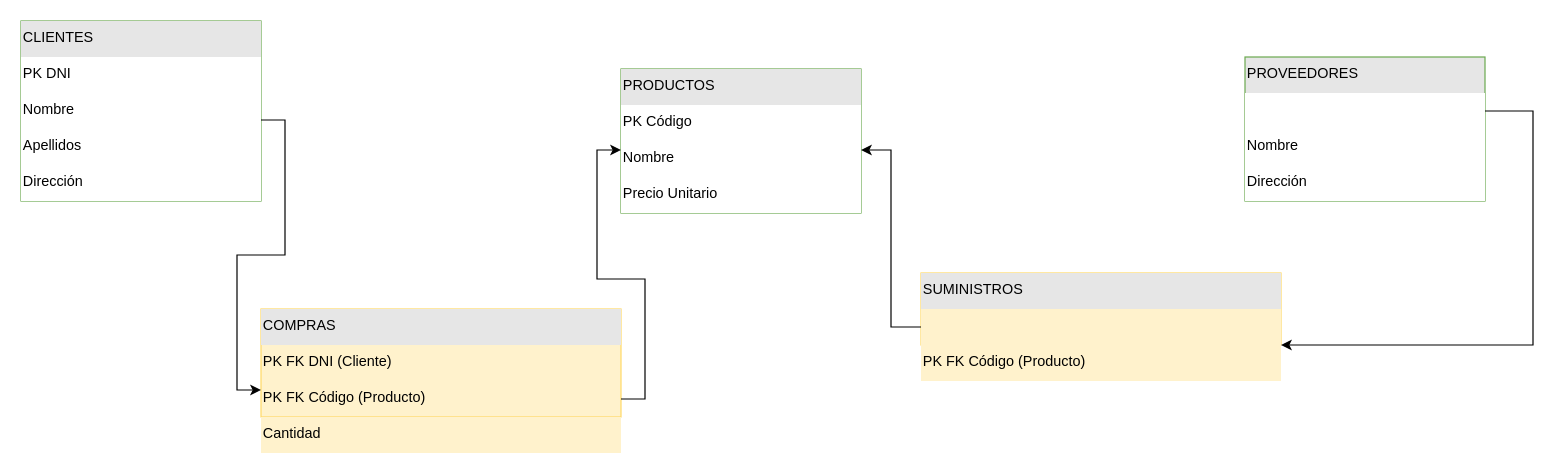
The diagram is 1564 pixels wide and 474 high, and some of its shapes have lost their labels. The centre of each missing label's shape, as x and y in pixels:
"PK FK NIF (Proveedor)" belongs at [1100,326].
"PK NIF" belongs at [1364,110].
